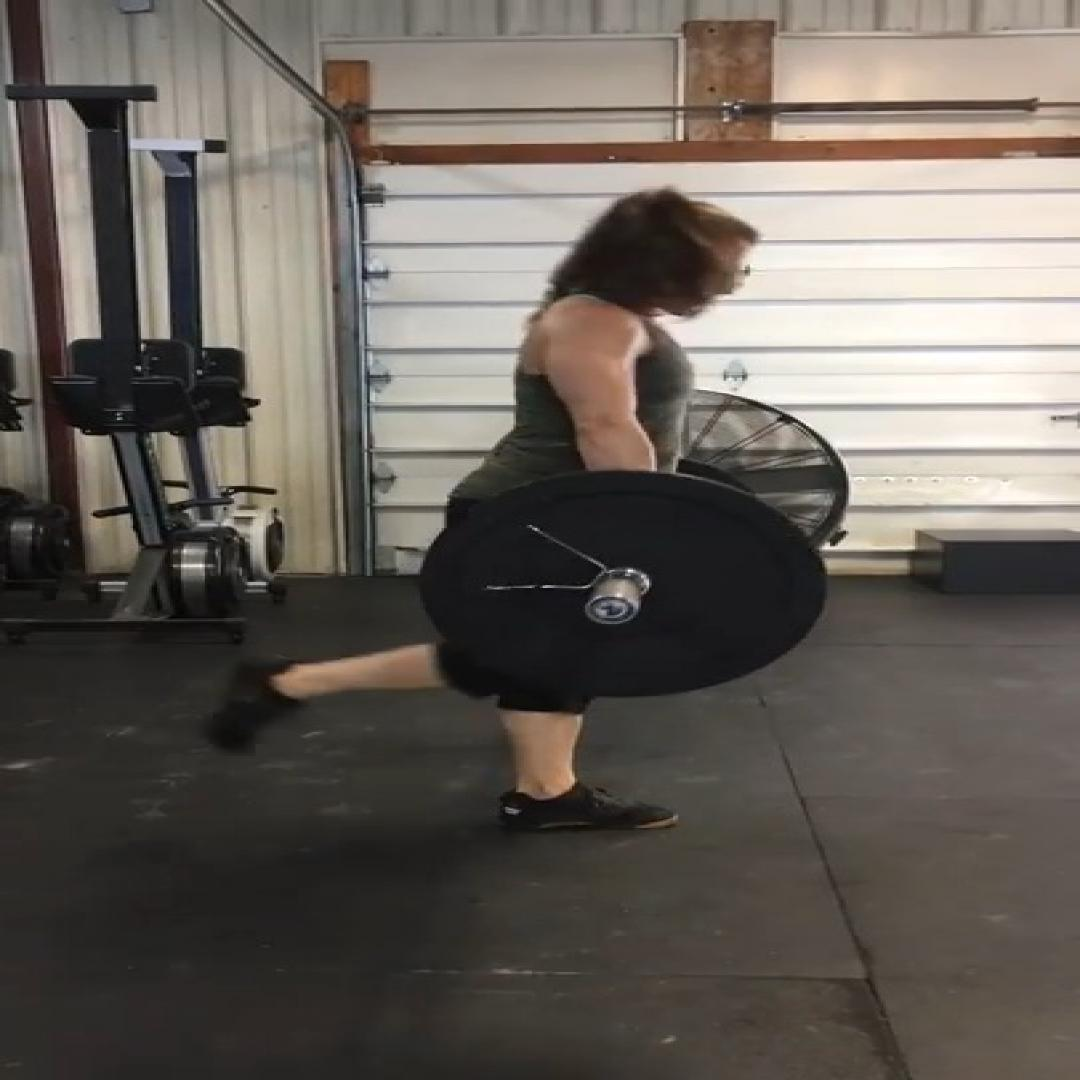Bar: (582, 592, 638, 625)
Barbell: (418, 469, 827, 699)
